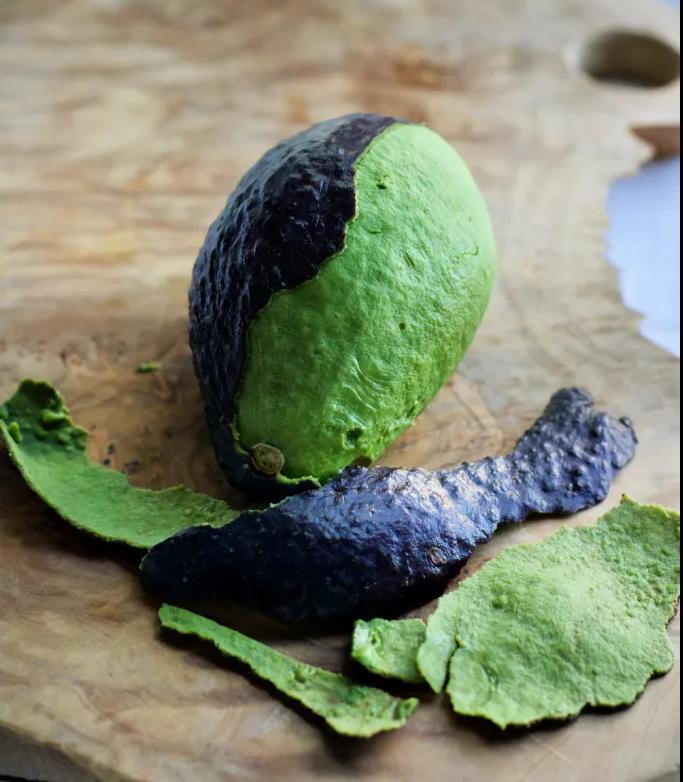organic: (190, 113, 496, 501), (142, 388, 636, 620), (353, 496, 679, 726), (0, 380, 238, 548), (160, 604, 418, 737)
